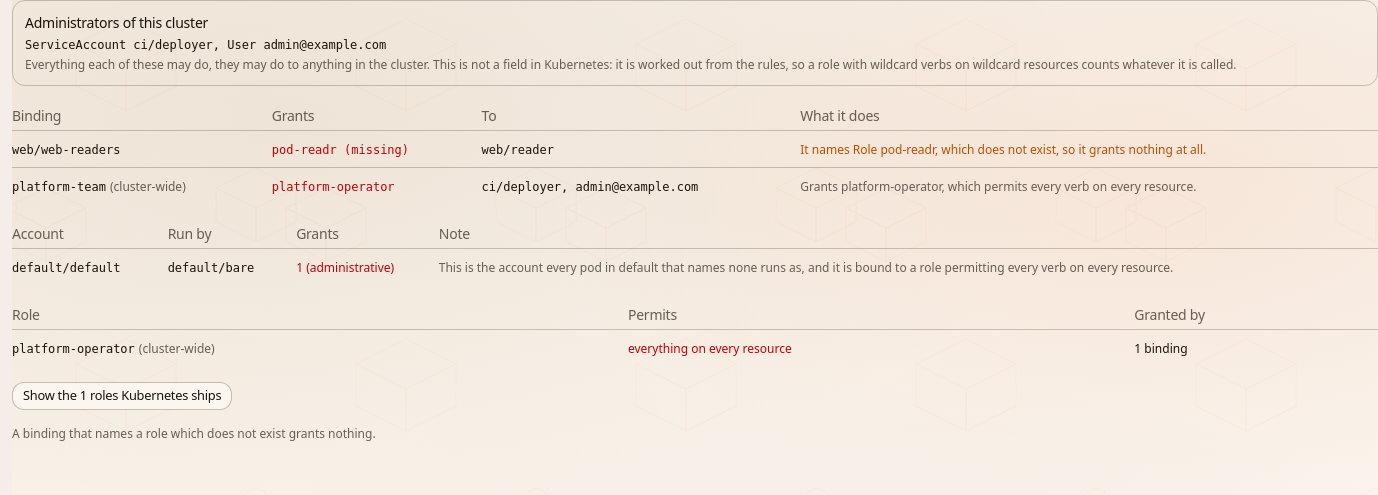
it: who may do what › hides the roles Kubernetes ships behind a button rather than filtering them away
Expected: the text "cluster-admin" is not shown
Click the button "Show the 1 roles Kubernetes ships": (122, 396) x1=12 y1=382 x2=232 y2=410
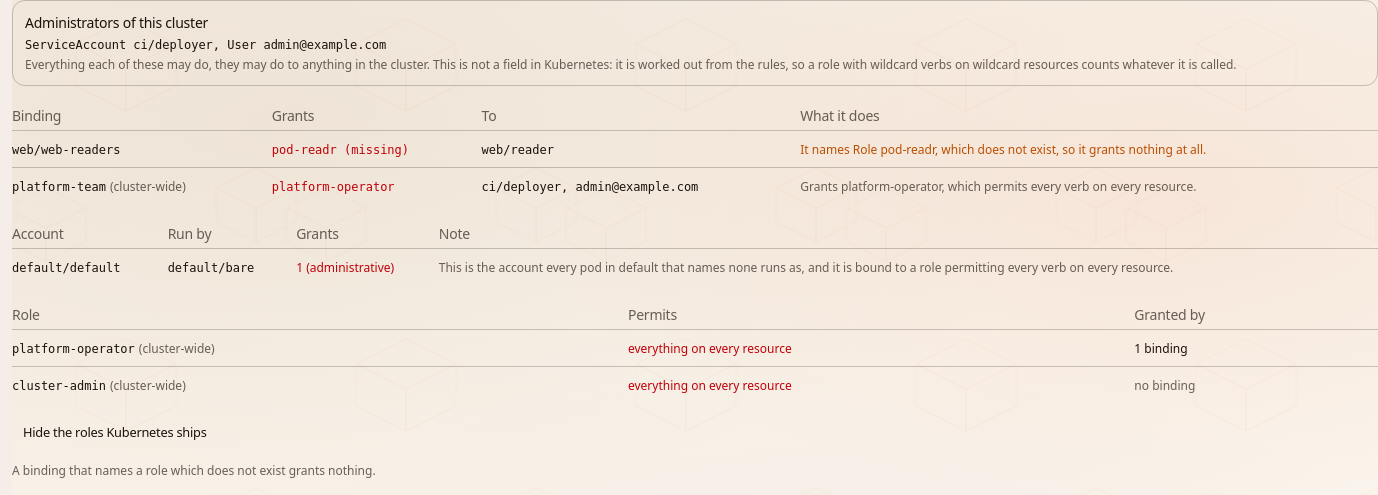
Expected: the text "cluster-admin(cluster-wide)" is shown, x1=12 y1=379 x2=186 y2=393
